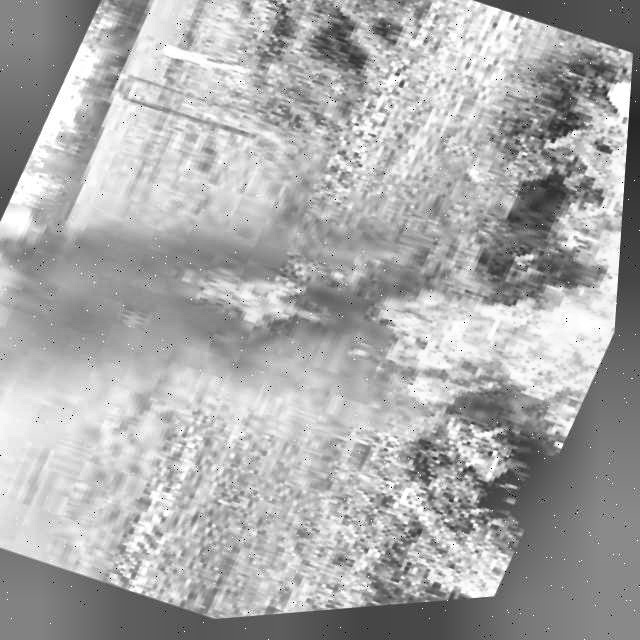Fire: (344, 59, 635, 484)
Smoke: (0, 115, 483, 503)
